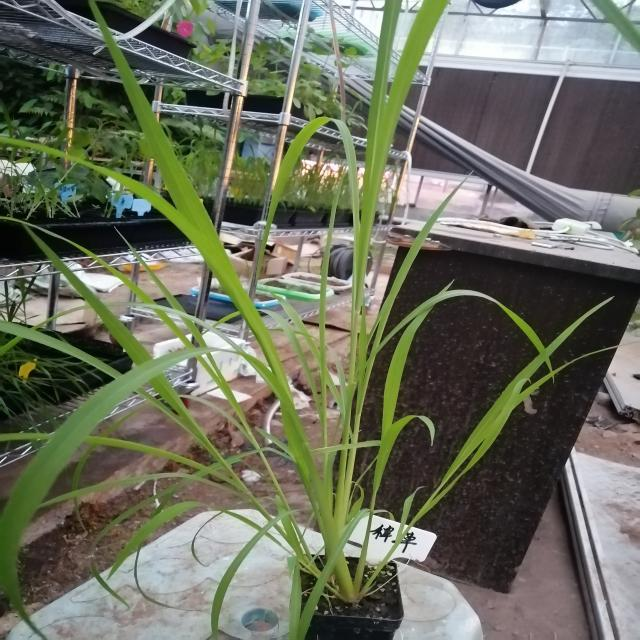barnyard_grass: (45, 46, 528, 576)
